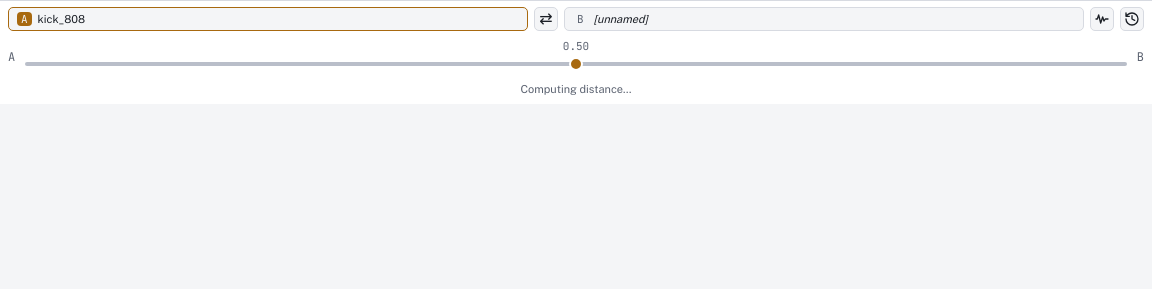
Test: MorphStrip with a whole pair › names both ends with the slider under them, and keeps the waveform until asked for
Check: the text "kick_808" is shown, box [38, 13, 85, 25]
Check: the text "[unnamed]" is shown, box [594, 13, 648, 25]
Click the button named "Waveform" at [1102, 19], box [1090, 7, 1114, 31]
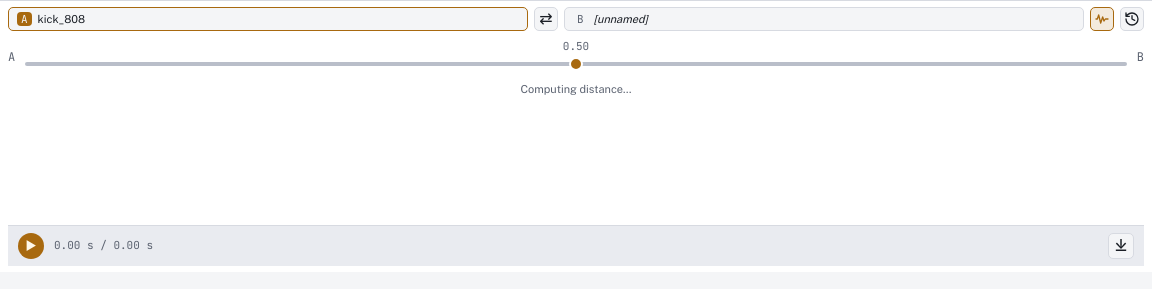
Check: the button named "Play the morph" is shown, box [18, 233, 44, 259]
Check: the button named "Waveform" is expanded, box [1090, 7, 1114, 31]
